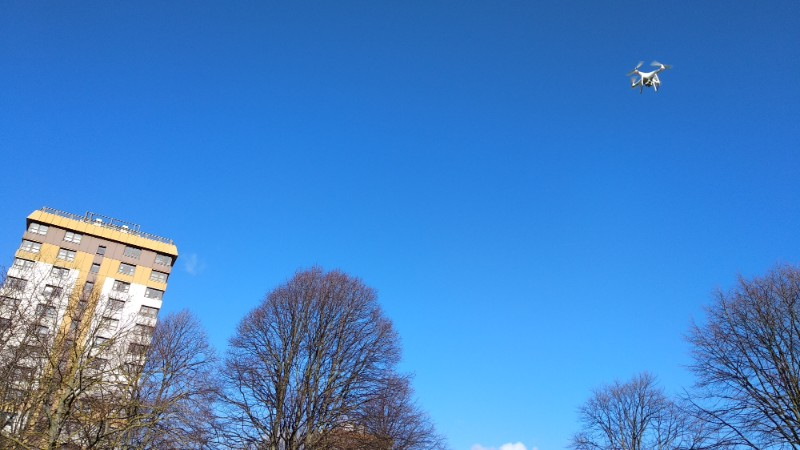drone: (625, 59, 672, 96)
